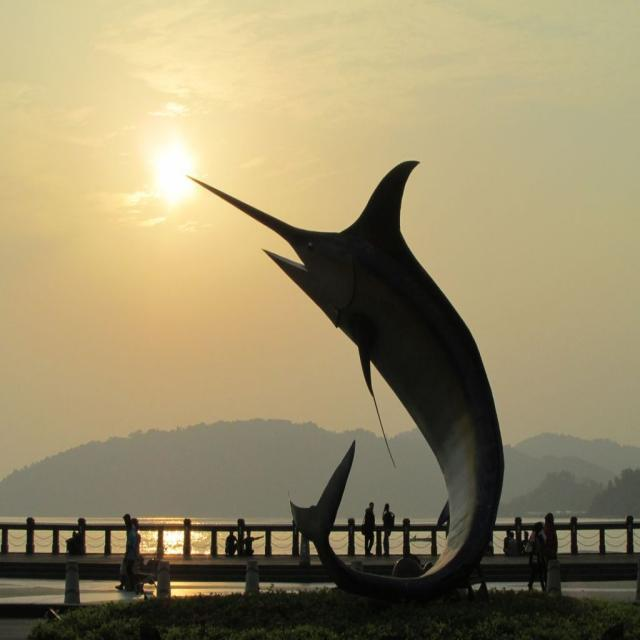Shark: (185, 156, 508, 591)
